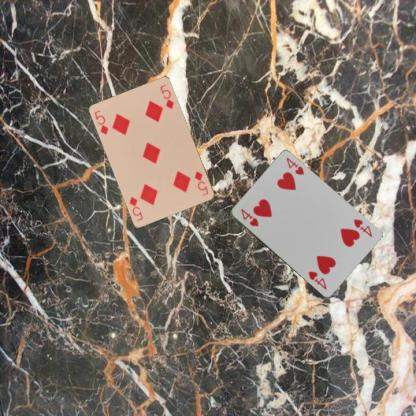4h: (351, 216, 373, 238), (238, 206, 259, 228)
5d: (192, 169, 210, 197), (92, 108, 110, 136)
